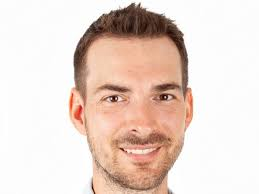s.white: (153, 104, 180, 147)
